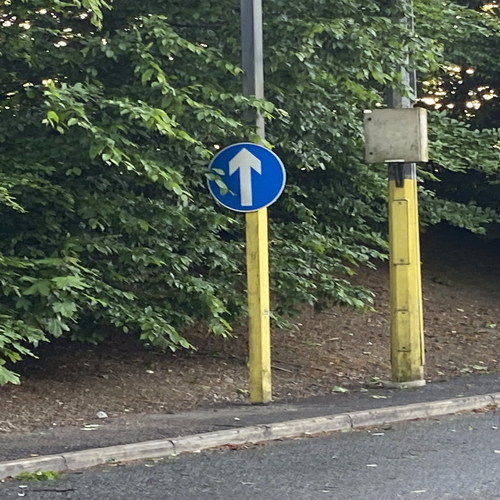Ahead Only: (208, 140, 286, 211)
